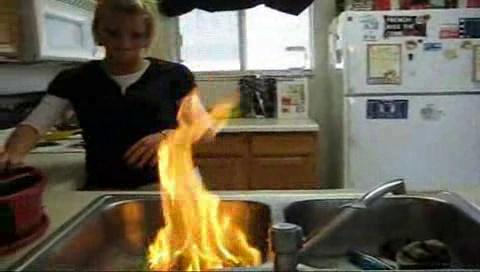fire: (116, 87, 253, 271)
